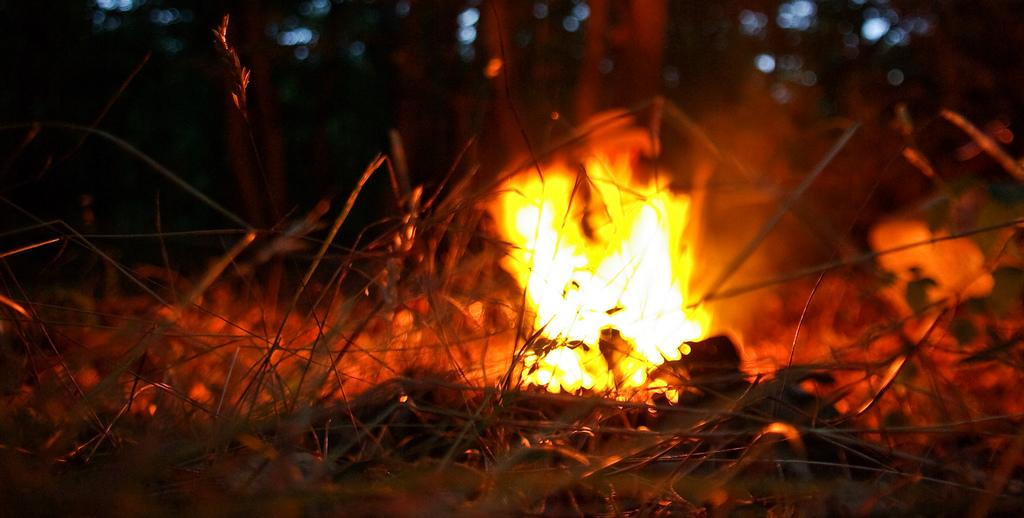fire: (542, 268, 608, 336), (631, 259, 677, 341), (521, 210, 563, 260)
